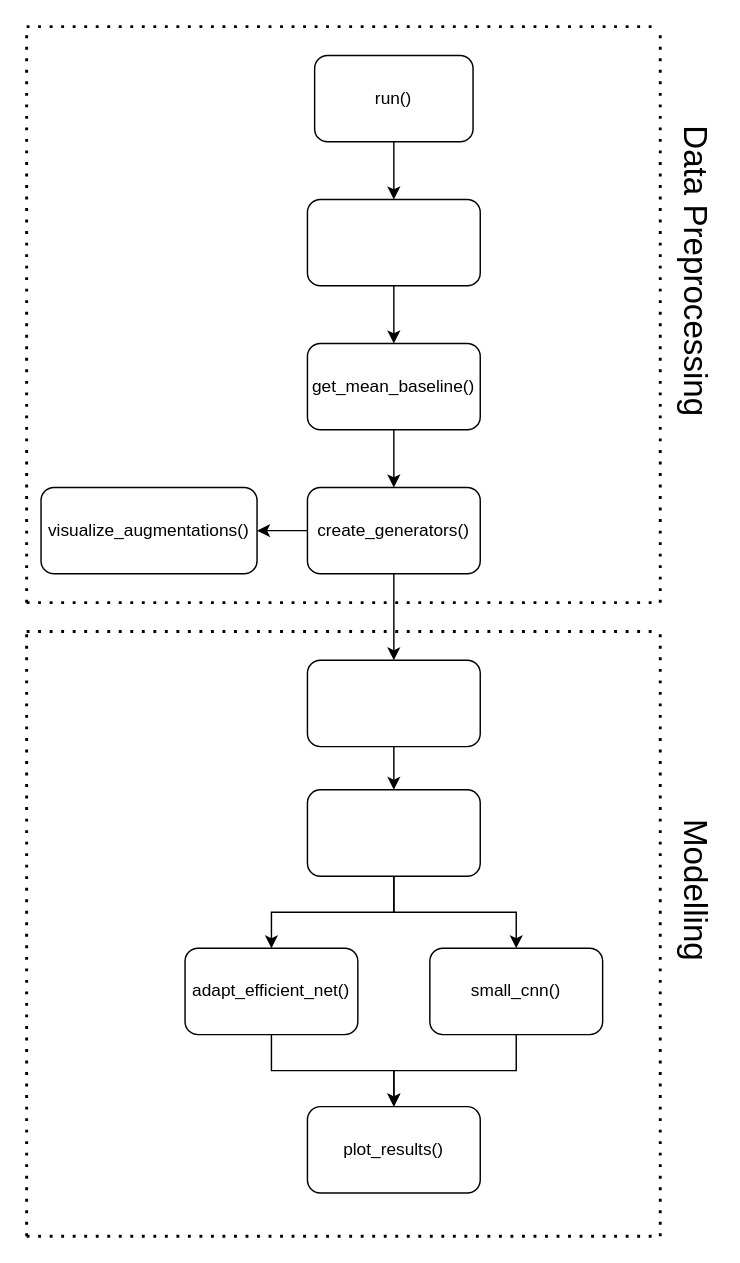
Some shapes in this 740 by 1263 pixel diagram are drawn without their labels. Each missing label, with the centre of its shape:
get_callbacks(): (393,832)
run_model(): (393,703)
split_data(df): (393,242)
